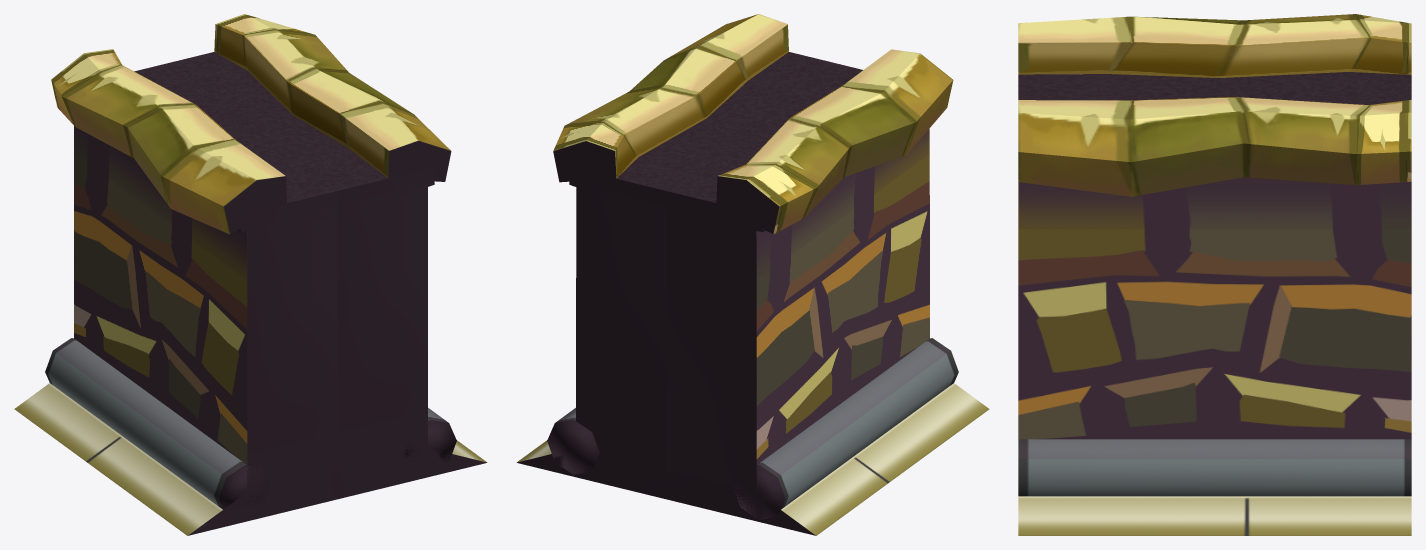
Rendered from Int_6_Wall_Vert_C.fbx.
3 renders of one model, left to right at view 1: azimuth 30°, elevation 25°; view 2: azimuth 150°, elevation 25°; view 3: azimuth 270°, elevation 25°, orthographic. The views are drawn at different scales.
Visible parts, largest first — view 1: Int_6_Wall_Vert_C; view 2: Int_6_Wall_Vert_C; view 3: Int_6_Wall_Vert_C.
Boxes of the visible parts, x1,y1,x2,y2 form: Int_6_Wall_Vert_C: (14,14,487,535); Int_6_Wall_Vert_C: (516,14,989,535); Int_6_Wall_Vert_C: (1018,14,1411,535).
Size of the model in its own units: 1 by 1.08 by 1.
1 material, 1 textured.
